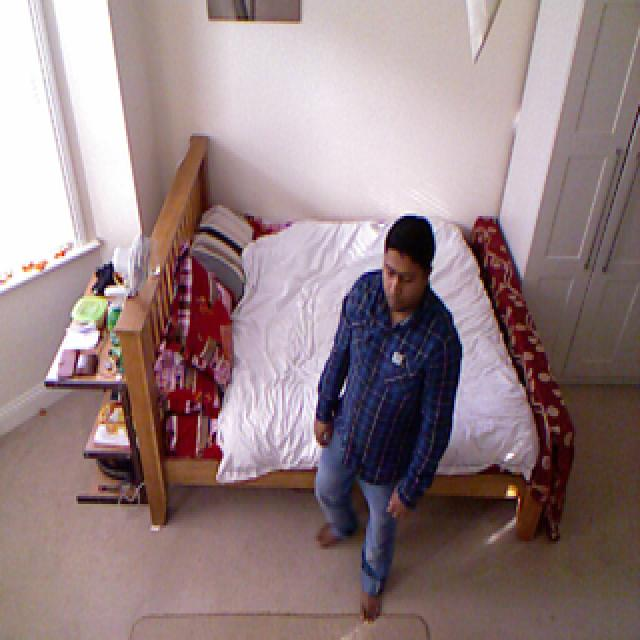standing: (311, 215, 464, 622)
